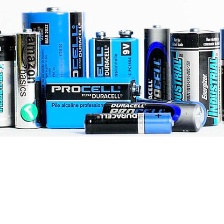battery: (19, 5, 88, 117), (42, 74, 142, 132), (168, 24, 223, 128), (86, 26, 142, 117), (99, 99, 204, 133), (14, 25, 45, 131), (139, 23, 171, 113), (81, 111, 176, 137), (0, 27, 17, 130)
